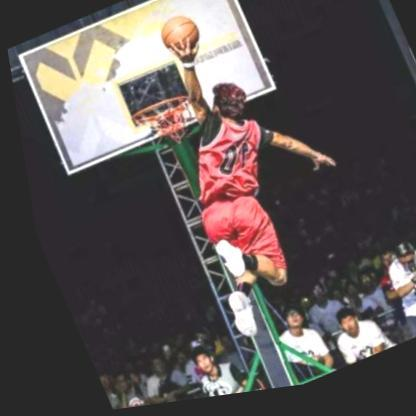basketball: (152, 13, 202, 61)
